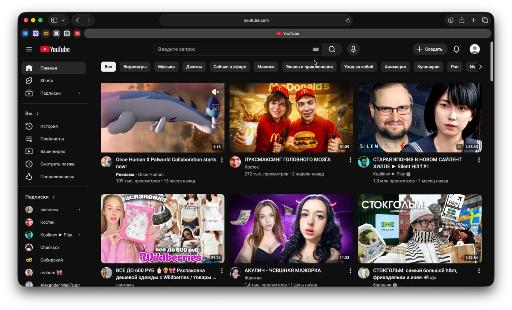youtube: (18, 39, 496, 288)
